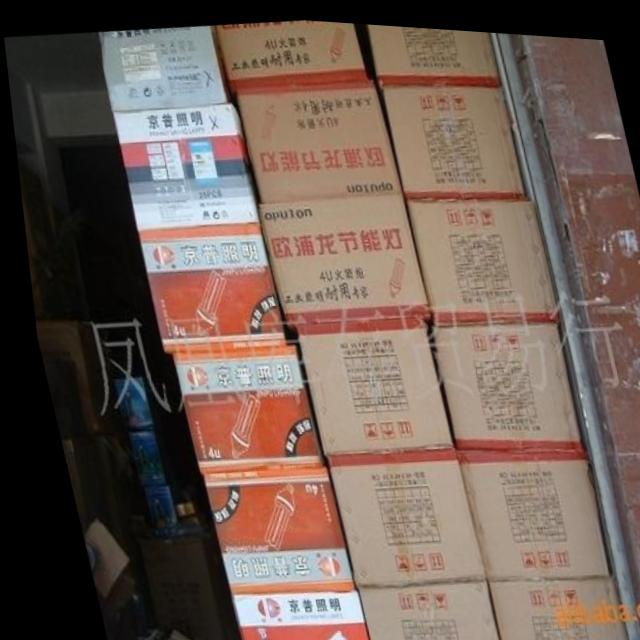box: (253, 190, 425, 322), (315, 441, 473, 584), (229, 73, 399, 199), (286, 314, 445, 447), (164, 335, 316, 472), (446, 440, 596, 576), (192, 459, 342, 591), (400, 190, 552, 320), (421, 313, 575, 441), (109, 97, 255, 232), (132, 221, 278, 352), (373, 73, 521, 190), (215, 16, 372, 92), (96, 22, 229, 109), (126, 523, 220, 640), (475, 567, 614, 640), (28, 321, 112, 433), (342, 576, 485, 640), (358, 19, 498, 81), (218, 584, 354, 640), (71, 516, 123, 622), (14, 163, 49, 260), (23, 259, 55, 319)
